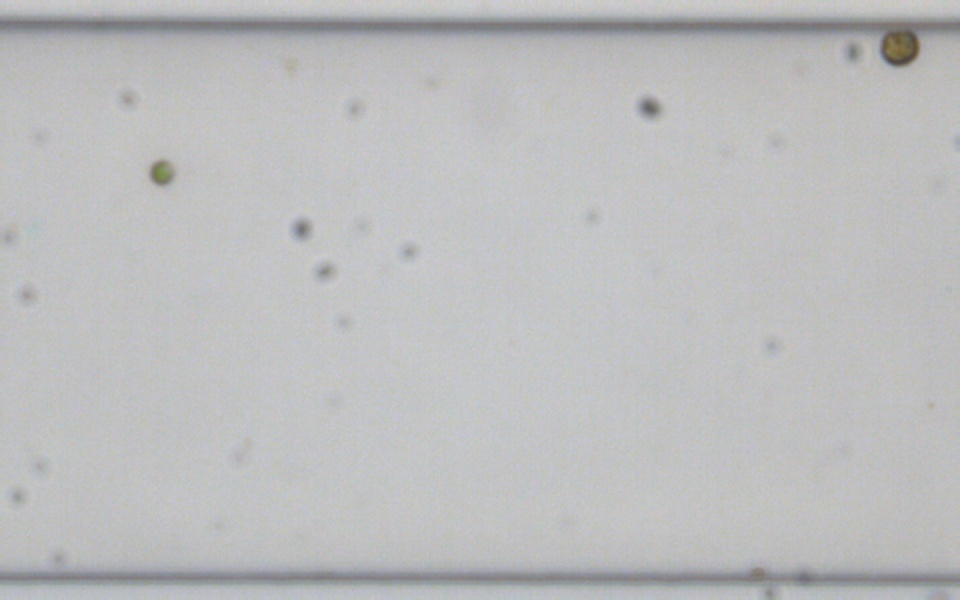Chlorella: (148, 157, 173, 186)
Effrenium: (877, 27, 920, 66)
